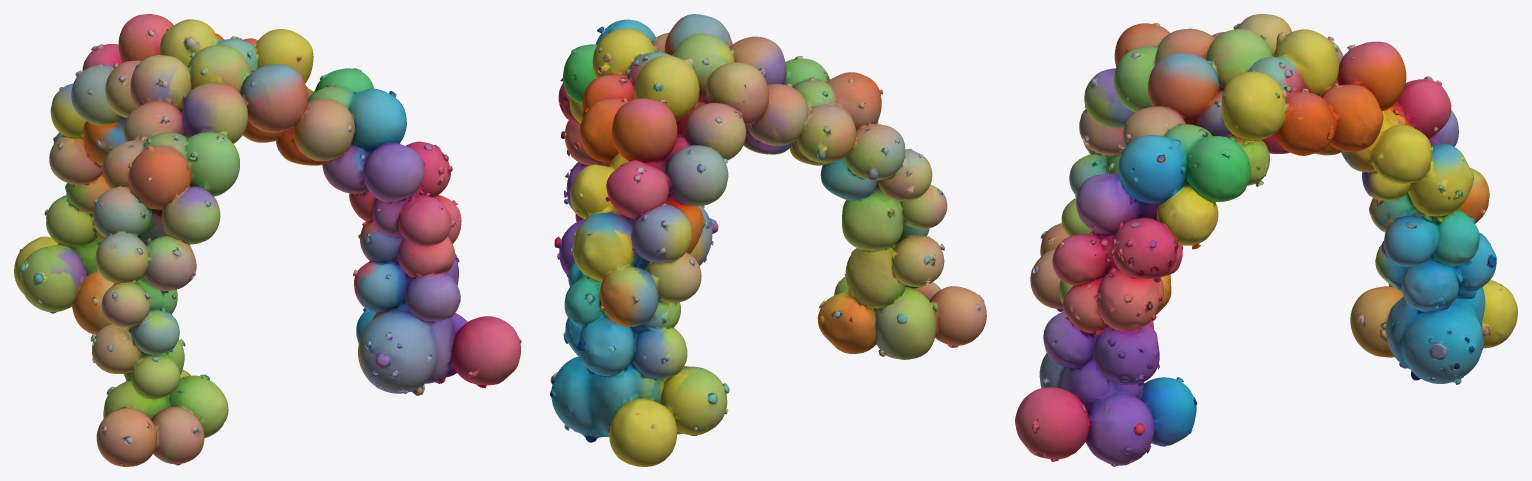
Rendered from env_nest_arch_balloon_01.glb.
The picture shows the model from 3 angles, left to right: view 1: azimuth 30°, elevation 25°; view 2: azimuth 150°, elevation 25°; view 3: azimuth 270°, elevation 25°; orthographic projection. The views are drawn at different scales.
Visible parts, largest first — view 1: tripo_node_eebae471-8822-4d78-9687-055200a6ca4d; view 2: tripo_node_eebae471-8822-4d78-9687-055200a6ca4d; view 3: tripo_node_eebae471-8822-4d78-9687-055200a6ca4d.
Part boxes in pixels (left/top/right/bottom): tripo_node_eebae471-8822-4d78-9687-055200a6ca4d: left=14, top=14, right=521, bottom=466; tripo_node_eebae471-8822-4d78-9687-055200a6ca4d: left=550, top=14, right=986, bottom=466; tripo_node_eebae471-8822-4d78-9687-055200a6ca4d: left=1015, top=14, right=1517, bottom=466.
Bounding box in the file's own units: 4.42 × 3.4 × 4.48.
Materials: 1 (1 with a texture image).
